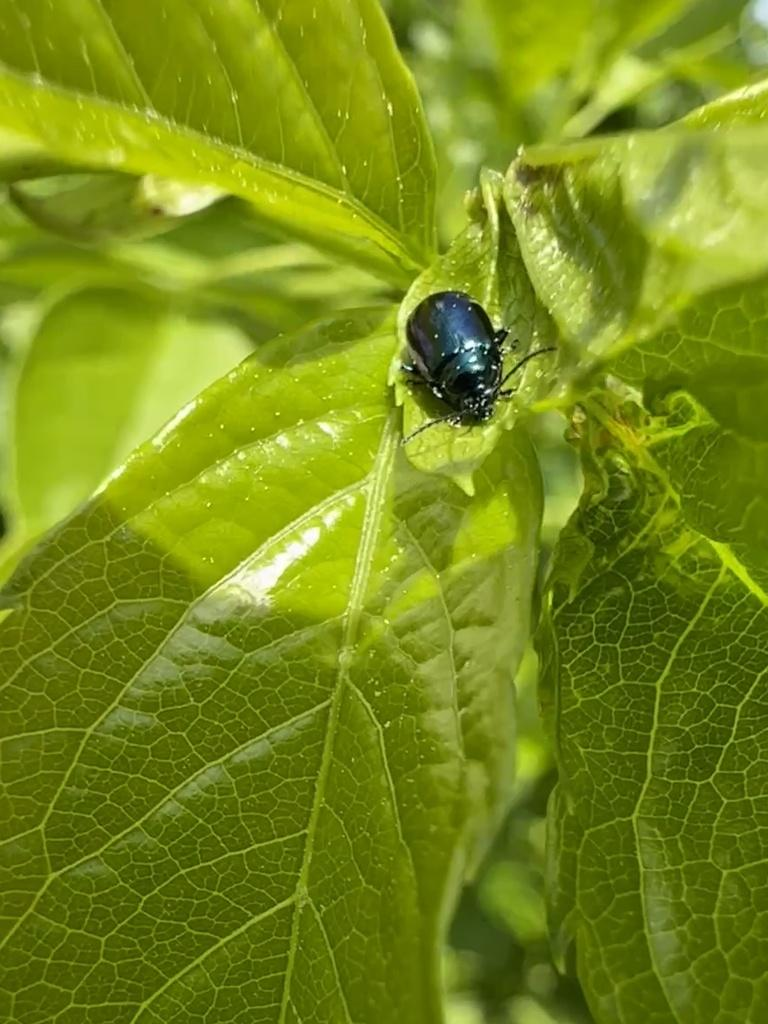flea_beetle: (374, 243, 566, 473)
